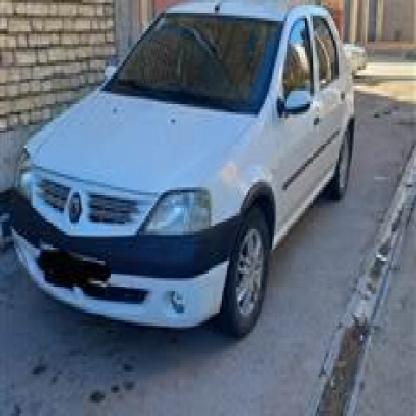Car: (0, 0, 362, 353)
